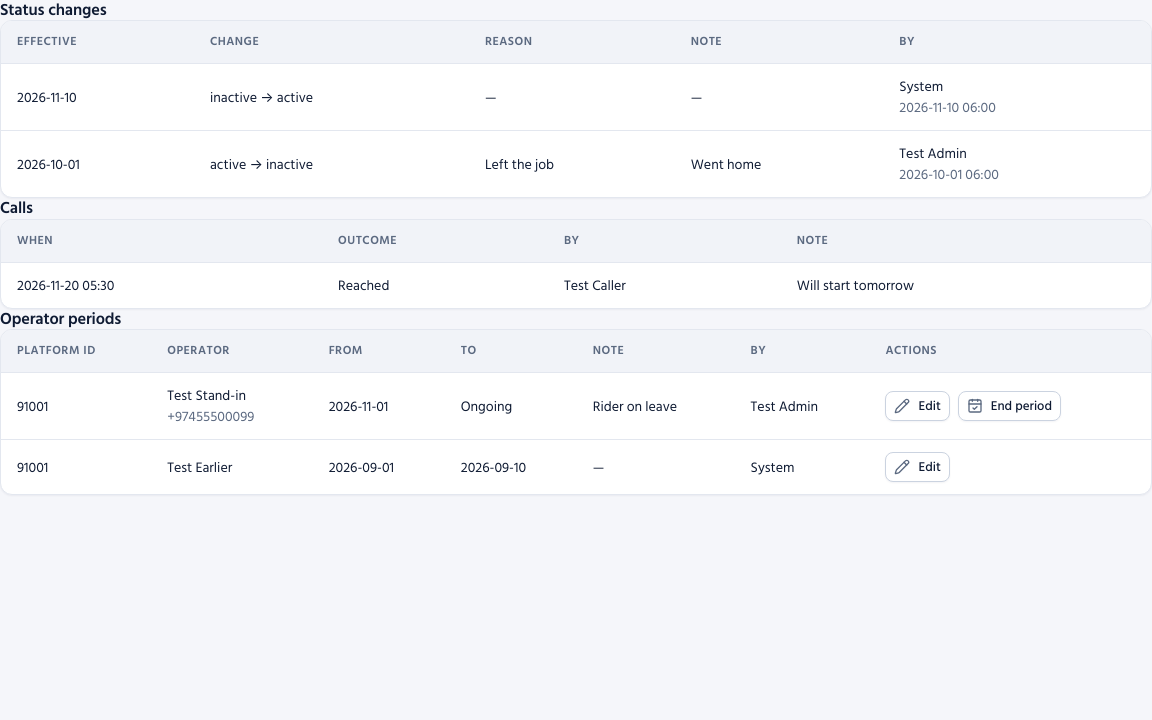
Test: Tracking tab (row 4.8b) › ends an ongoing period with an end date, refusing one before the start
Later steps or results of the test are not shown.
Expected: the text "Test Stand-in" is shown, [167,384,246,407]
Click the button "End period".
click(1009, 406)  # box [958,391,1061,421]
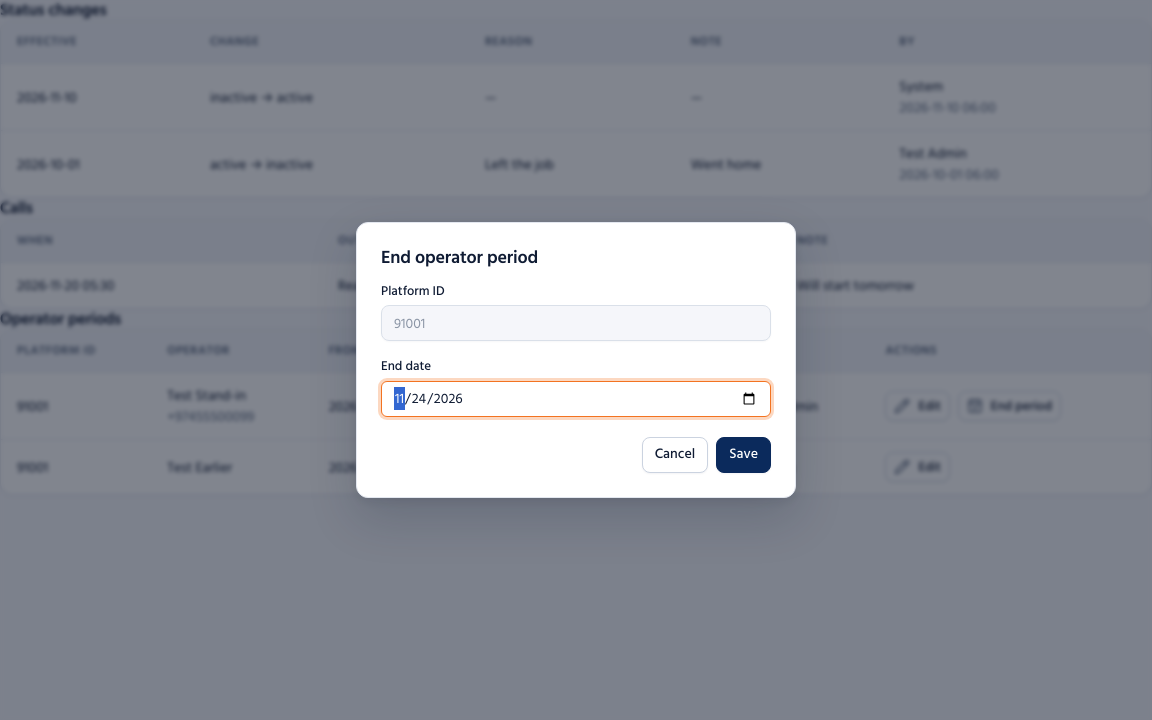
Type "2026-10-01" into the date field labelled "End date".
click(576, 399); type("2026-10-01")  # box [381,381,771,417]
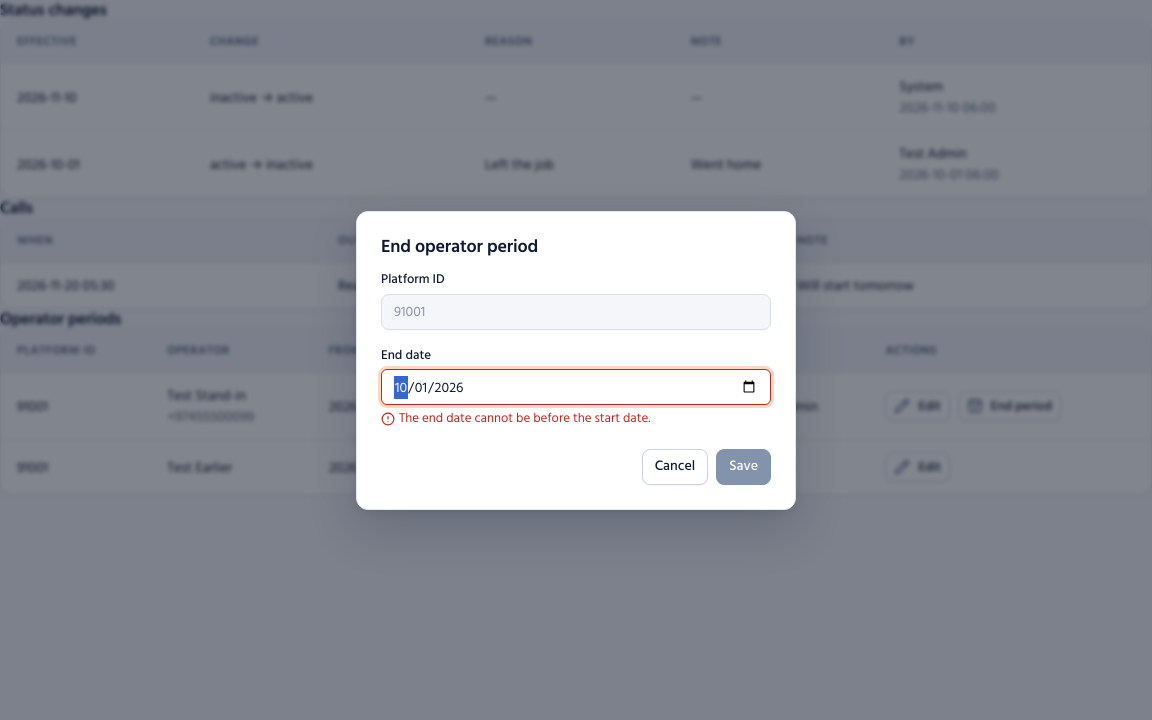
Now the button "Save" is disabled, box [716,448,771,484]
Now the text "The end date cannot be before the start date." is shown, box [381,407,650,429]
